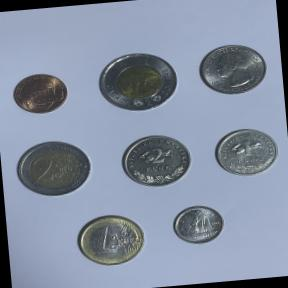1 Euro: (72, 210, 152, 272)
2 Euro: (10, 133, 98, 203)
Canda-10cent-: (168, 201, 230, 250)
Canda-2Dollar-: (92, 46, 184, 118)
Croatia-2Kune-: (114, 128, 199, 194)
US-1cent-: (7, 69, 74, 120)
US-25cent-: (194, 38, 272, 101)
